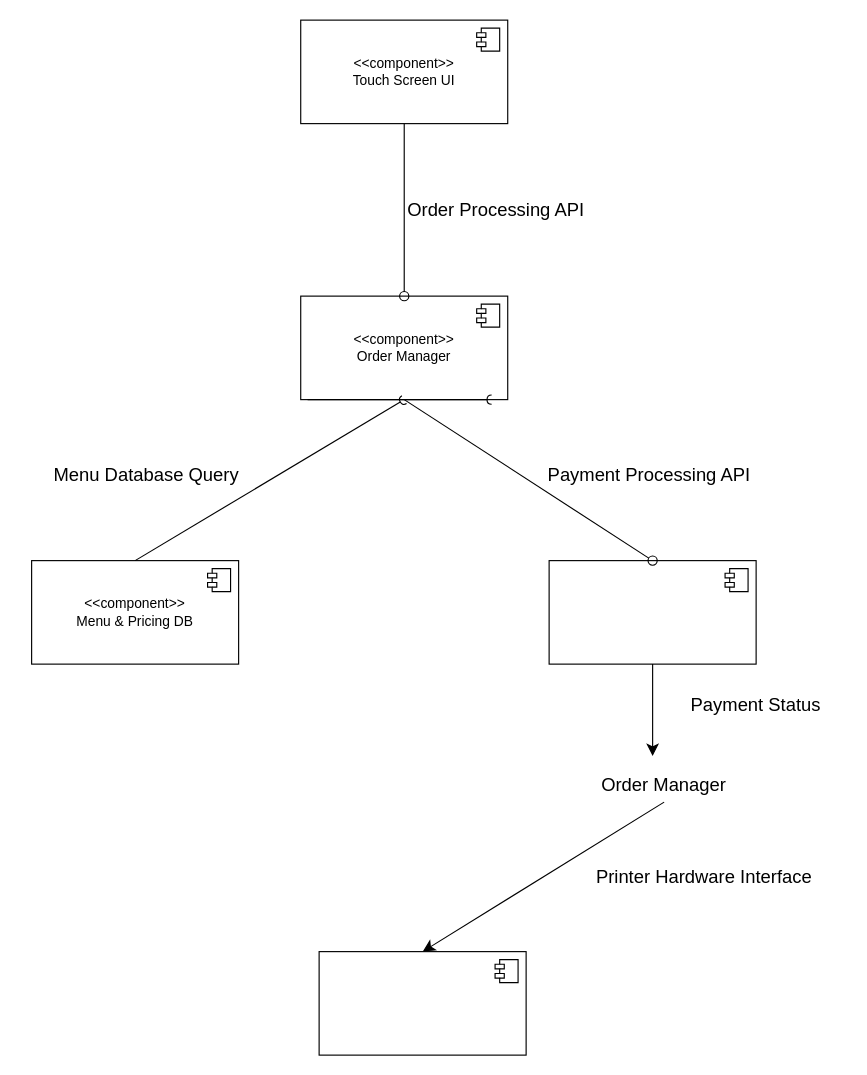
Image size: 867x1075. Some labels were removed from this diagram. Here are the shapes that lost their labels. From the top down, the centre of each, then its label:
(652,611): <<component>> Payment Service
(422,1002): <<component>> Receipt Printer
